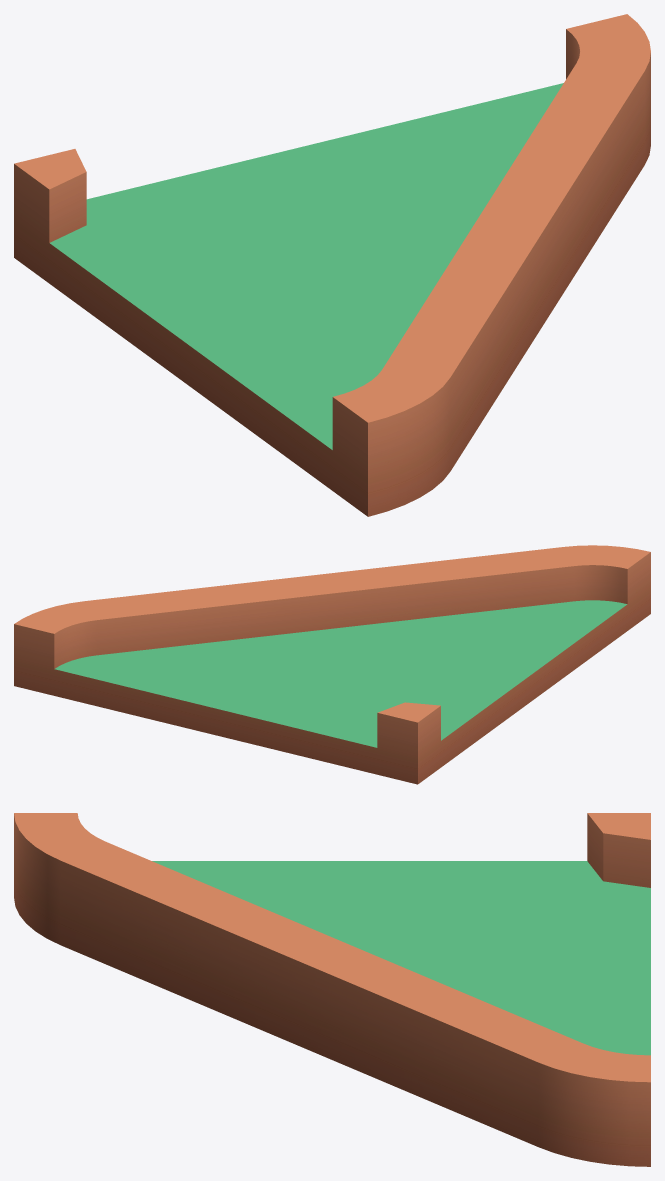
Rendered from skew-corner.glb.
3 renders of one model, top to bottom at view 1: azimuth 30°, elevation 25°; view 2: azimuth 150°, elevation 25°; view 3: azimuth 270°, elevation 25°, orthographic. The views are drawn at different scales.
Visible parts, largest first — view 1: skew-corner; view 2: skew-corner; view 3: skew-corner.
Part boxes in pixels (x1,y1,x2,y2): skew-corner: (14,14,650,516); skew-corner: (14,545,650,784); skew-corner: (14,813,650,1166).
Bounding box in the file's own units: 0.9999 × 0.1467 × 0.9999.
Materials: 1 (1 with a texture image).
